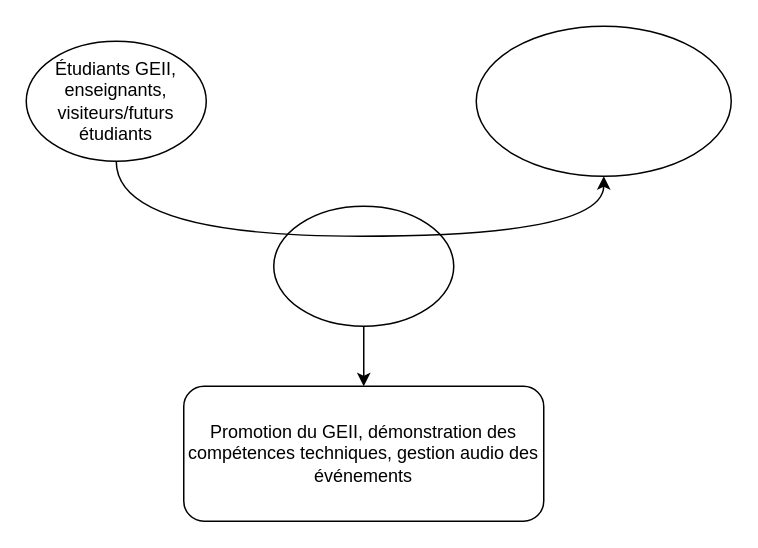
Image size: 758x548. Some labels were removed from this diagram. Each missing label, with the centre of its shape:
"Instruments SAÉ, signaux audio" goes at [603,100].
"Table de Mixage" goes at [363,265].
